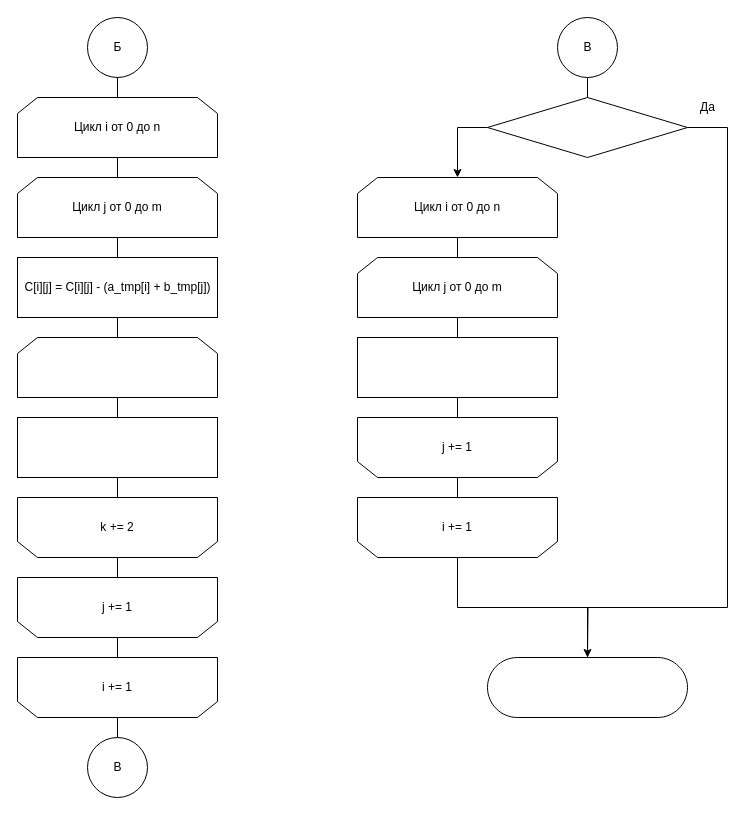
This 753x815 diagram has some shape labels left out. Here are the shapes that lost their labels. From the top down, the centre of each, then its label:
[587,127]: t - четное
[117,367]: Цикл k от 0 до t с шагом 2
[457,367]: C[i][j] =C[i][j] + + A[i][t - 1] * B[t - 1][j]
[117,447]: C[i][j] = C[i][j] + (A[i][k - 1] + + B[k][j] * A[i][k] + B[k - 1][j])
[587,687]: Конец
